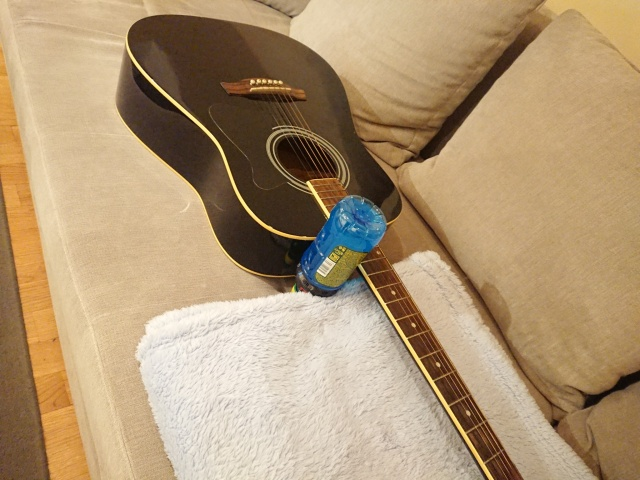Vindi Iso Sport Forest Strawberries 500mL: (287, 193, 389, 301)
